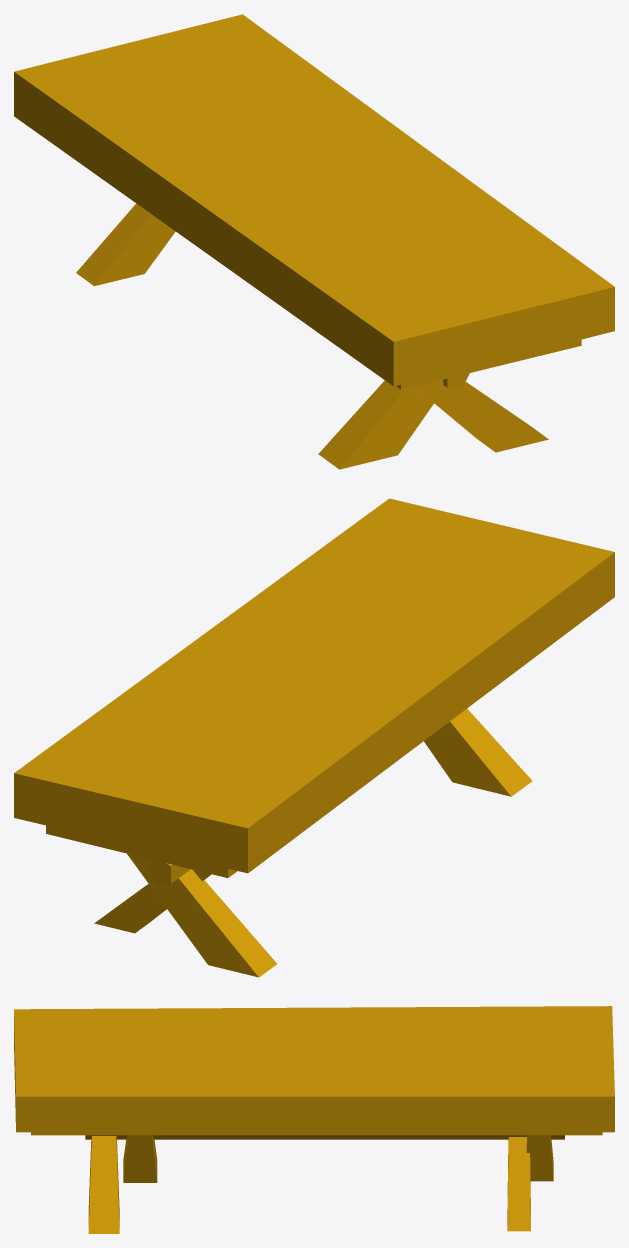
Rendered from Table.fbx.
3 views of the same model, one above another, from view 1: azimuth 30°, elevation 25°; view 2: azimuth 150°, elevation 25°; view 3: azimuth 270°, elevation 25° (orthographic). The views are drawn at different scales.
Visible parts, largest first — view 1: Cylinder_001; view 2: Cylinder_001; view 3: Cylinder_001.
Part boxes in pixels (x1,y1,x2,y2): Cylinder_001: (14, 14, 614, 469); Cylinder_001: (14, 498, 614, 977); Cylinder_001: (14, 1006, 614, 1233).
Bounding box in the file's own units: 0.9869 × 0.74 × 2.77.
